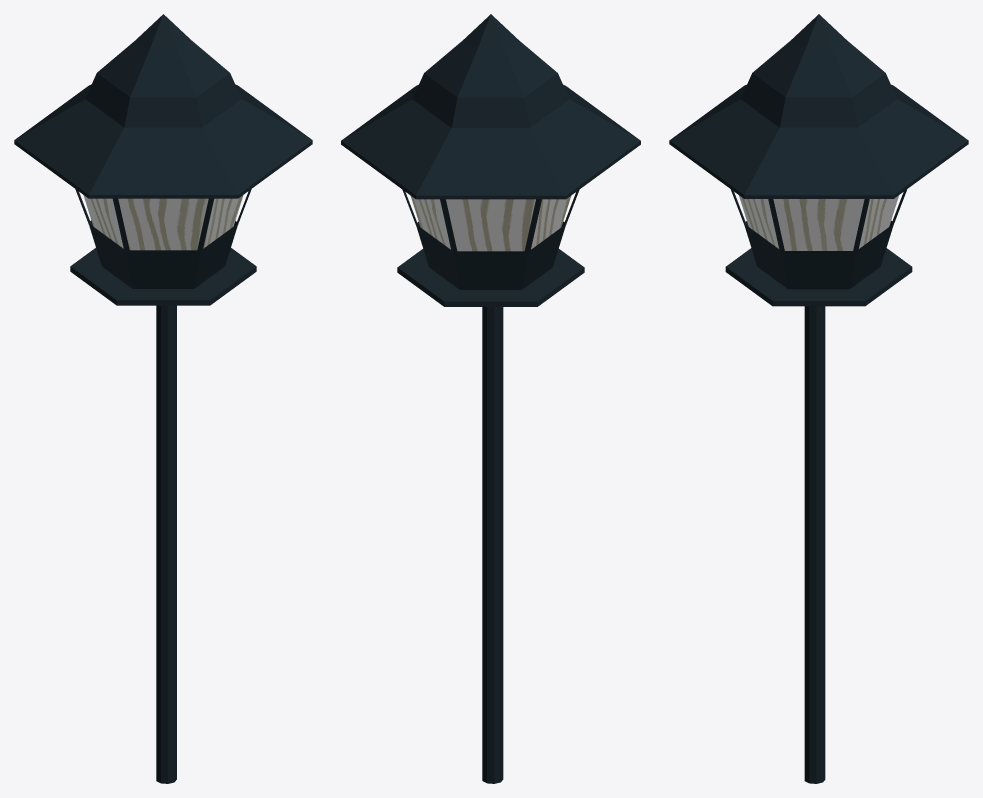
Rendered from 024_Shadow_Lamp_01.fbx.
3 views of the same model, side by side, from view 1: azimuth 30°, elevation 25°; view 2: azimuth 150°, elevation 25°; view 3: azimuth 270°, elevation 25° (orthographic).
Parts seen in each view (by area): view 1: Cylinder.017, Cylinder.018, Cylinder.016; view 2: Cylinder.017, Cylinder.018, Cylinder.016; view 3: Cylinder.017, Cylinder.018, Cylinder.016.
Boxes of the visible parts, bbox=[...] form: Cylinder.017: bbox=[14, 14, 312, 305]; Cylinder.018: bbox=[156, 305, 176, 783]; Cylinder.016: bbox=[83, 195, 243, 250]; Cylinder.017: bbox=[341, 14, 640, 306]; Cylinder.018: bbox=[482, 307, 503, 783]; Cylinder.016: bbox=[410, 195, 571, 251]; Cylinder.017: bbox=[669, 14, 968, 306]; Cylinder.018: bbox=[804, 306, 825, 783]; Cylinder.016: bbox=[739, 195, 898, 250].
Bounding box in the file's own units: 118 × 385 × 136.
